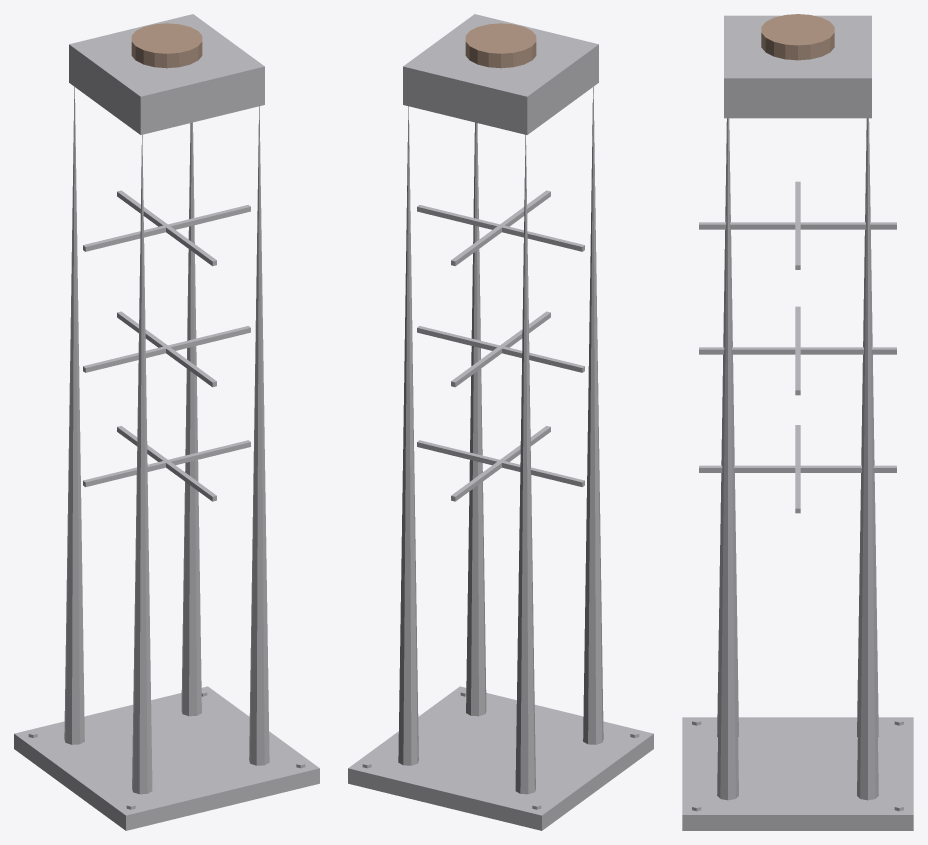
File: derrick_common.glb
The picture shows the model from 3 angles, left to right: view 1: azimuth 30°, elevation 25°; view 2: azimuth 150°, elevation 25°; view 3: azimuth 270°, elevation 25°; orthographic projection. The views are drawn at different scales.
Parts seen in each view (by area): view 1: derrick; view 2: derrick; view 3: derrick.
Part boxes in pixels (bbox=[...]): derrick: bbox=[14, 14, 319, 830]; derrick: bbox=[348, 14, 653, 830]; derrick: bbox=[682, 14, 913, 830].
Size of the model in its own units: 2.11 by 7.57 by 2.11.
